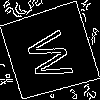W: (25, 25, 83, 85)
